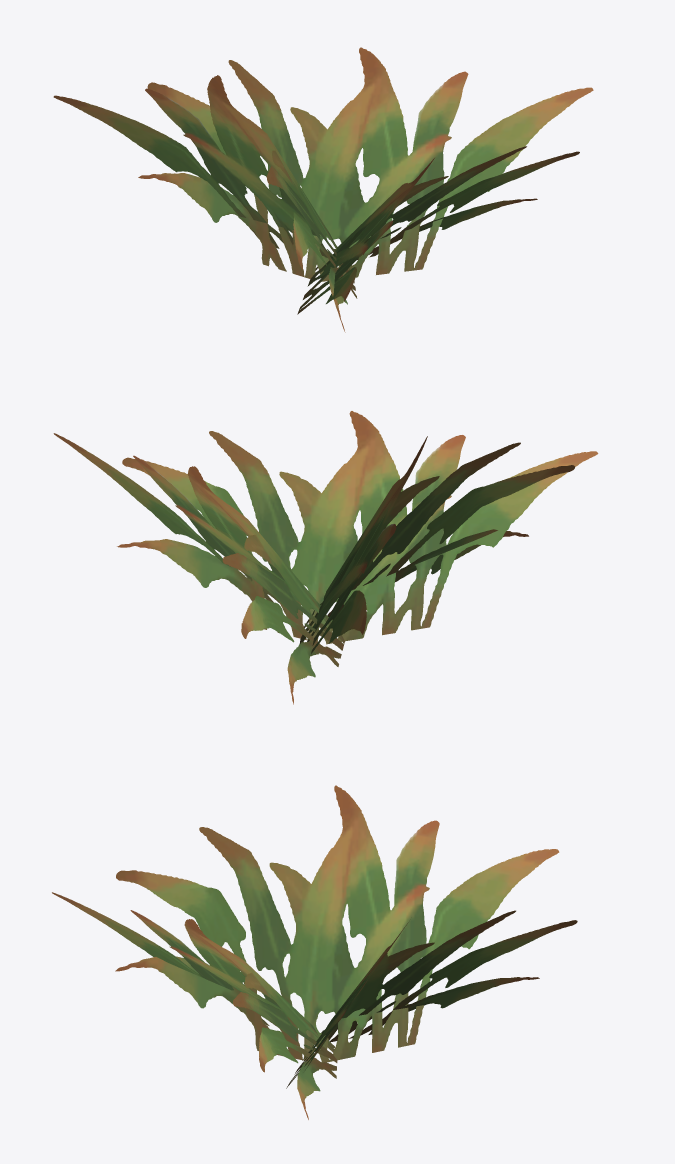
Rendered from Map_07_grass16.FBX.
3 renders of one model, top to bottom at view 1: azimuth 30°, elevation 25°; view 2: azimuth 150°, elevation 25°; view 3: azimuth 270°, elevation 25°, orthographic. The views are drawn at different scales.
Visible parts, largest first — view 1: Map_07_grass16; view 2: Map_07_grass16; view 3: Map_07_grass16.
Boxes of the visible parts, x1=… form: Map_07_grass16: x1=53, y1=47, x2=593, y2=332; Map_07_grass16: x1=53, y1=411, x2=598, y2=704; Map_07_grass16: x1=52, y1=785, x2=577, y2=1119.
Size of the model in its own units: 648 by 303 by 770.
Materials: 1 (1 with a texture image).
